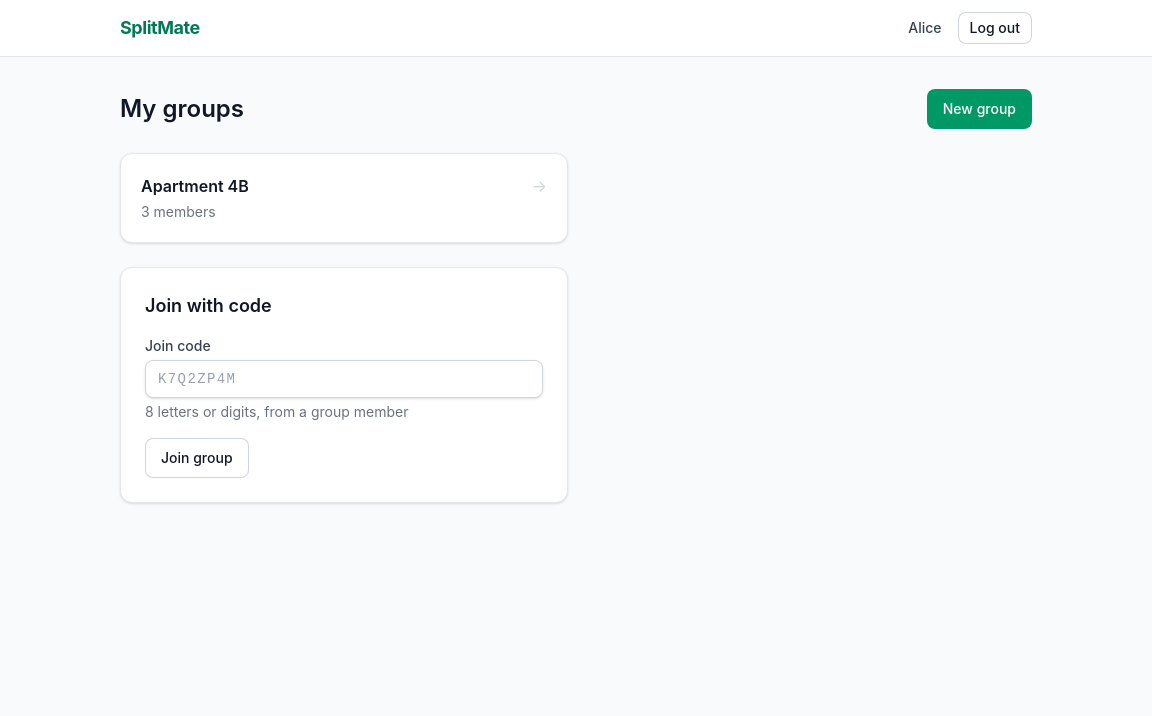
Test case: My groups list › clicking a group card opens its page
Click the link "Apartment 4B 3 members →" at x=195, y=186, box [120,153,568,243]
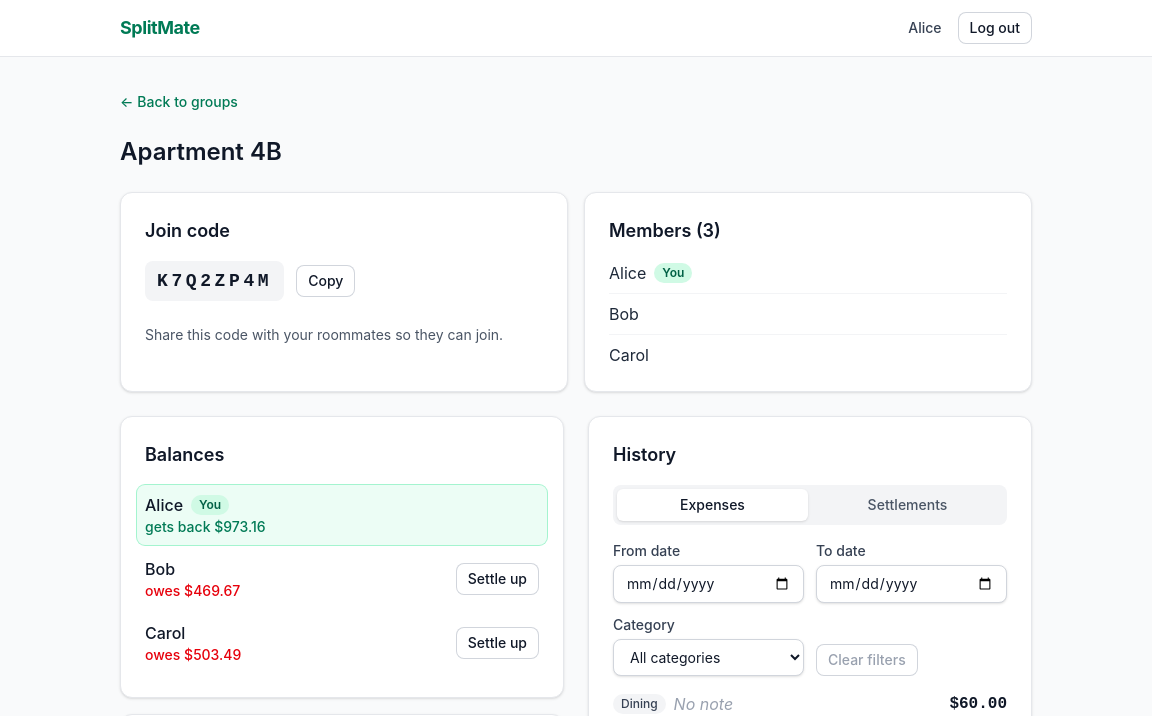
Result: the heading "Apartment 4B" is shown at [120,137,282,166]
